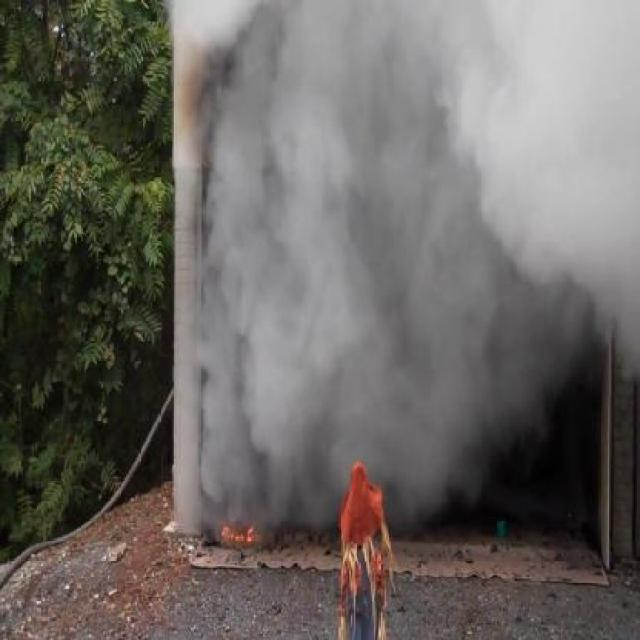smoke: (156, 20, 638, 548)
